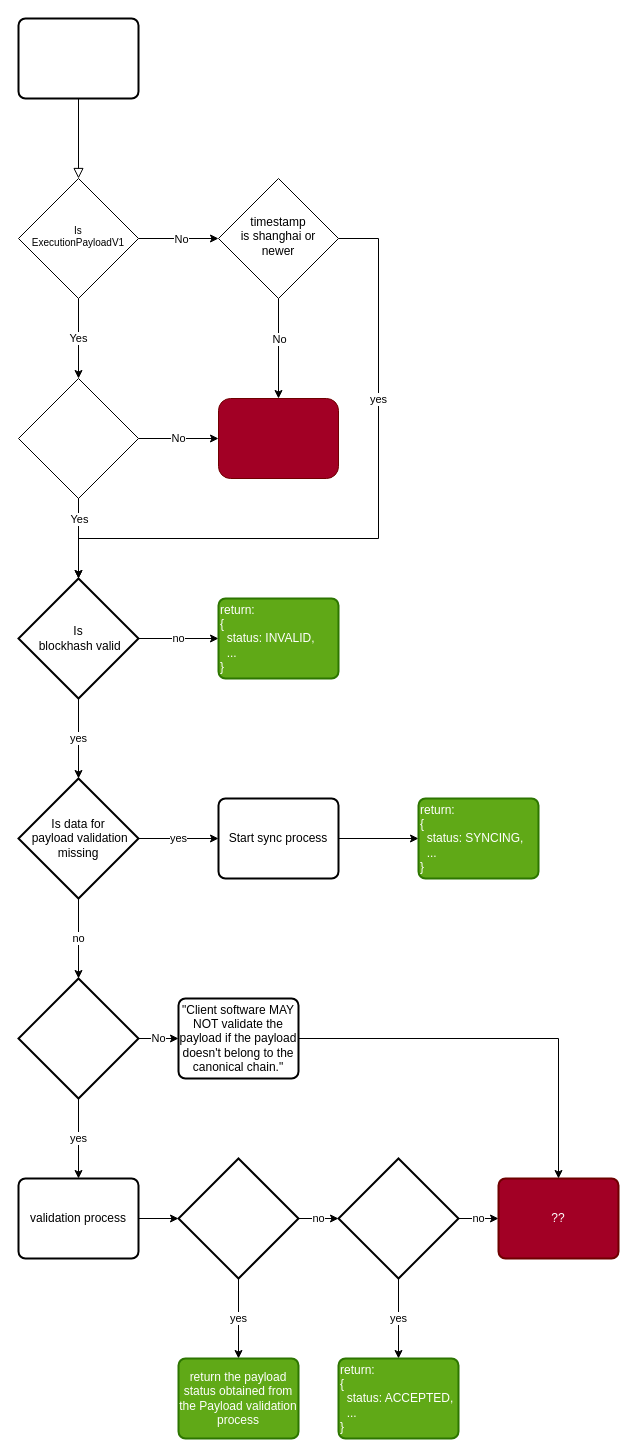
Some shapes in this 636 by 1456 pixel diagram are drawn without their labels. The shapes that lost their labels are listed below. From the top down, each one's centre as x and y in pixels, then its label:
the point at 78,58: newPayloadV2 is called with an ExecutionPayload
the point at 78,438: timestamp is older than Shanghai
the point at 278,438: return: Invalid params
the point at 78,1038: payload extends the canonical chain
the point at 238,1218: the payload has been fully validated
the point at 398,1218: Ancestors of the payload are known and comprise a well-formed chain
